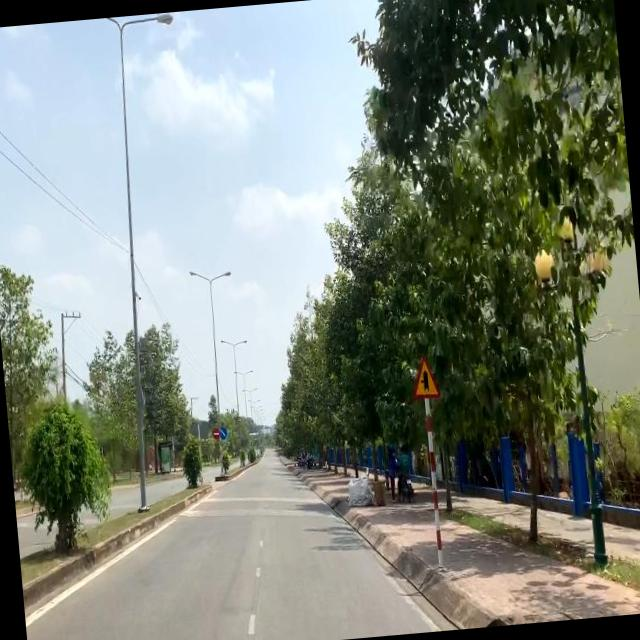P-102: (212, 426, 220, 441)
R-302a: (218, 426, 229, 440)
W-207c: (408, 352, 442, 402)
